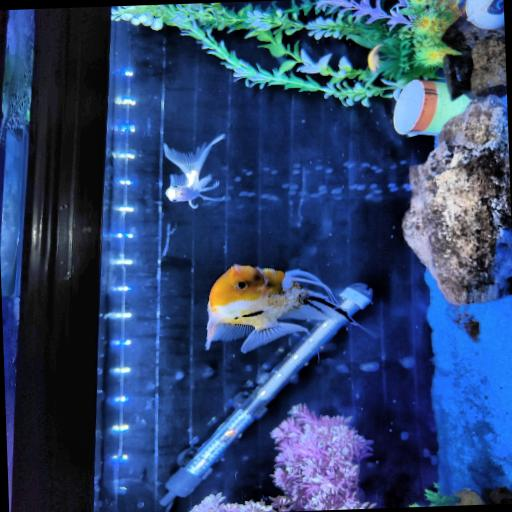Fish: (206, 265, 354, 352), (164, 135, 224, 208), (366, 42, 384, 73)
